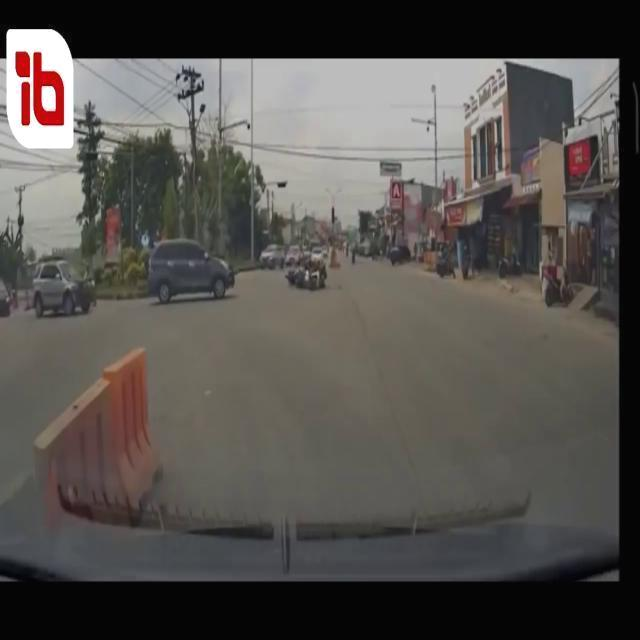accident: (284, 255, 328, 291)
non-accident: (258, 243, 302, 271)
